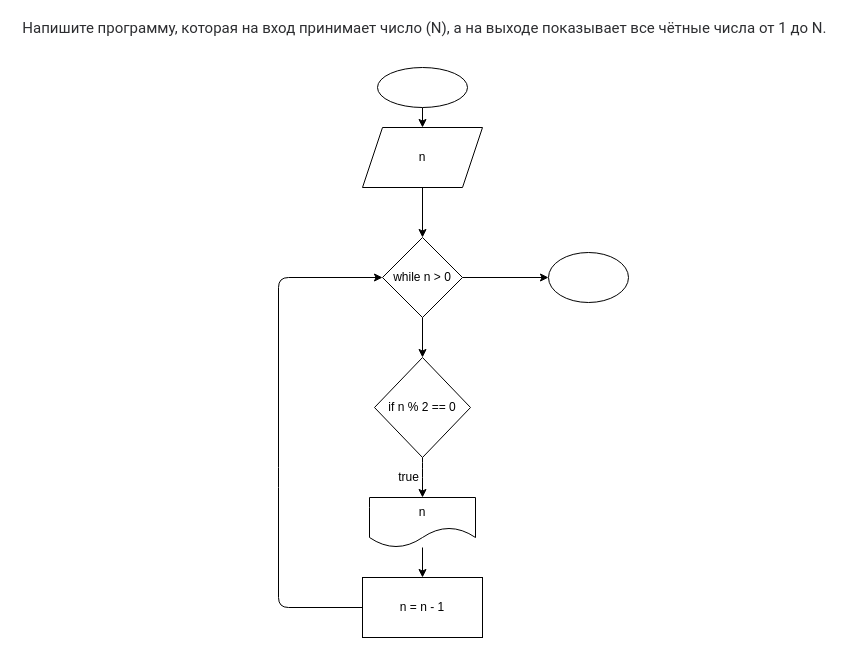
Image size: 844x655. Some labels were removed from this diagram. The shapes that lost their labels are listed below. From the top down, each one's centre as x and y in pixels, then its label:
At point (422, 87): "start".
At point (588, 277): "end".
